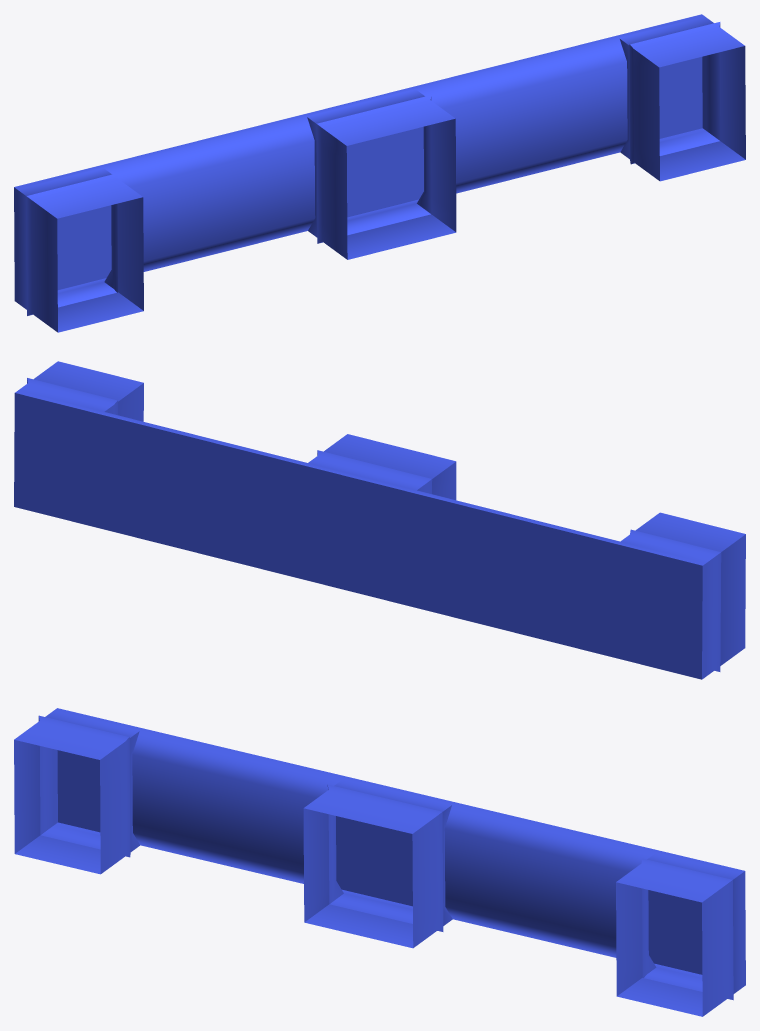
Rendered from pallet3.dae.
The picture shows the model from 3 angles, top to bottom: view 1: azimuth 30°, elevation 25°; view 2: azimuth 150°, elevation 25°; view 3: azimuth 330°, elevation 25°; orthographic projection.
Visible parts, largest first — view 1: Object_9.004; view 2: Object_9.004; view 3: Object_9.004.
Boxes of the visible parts, x1,y1,x2,y2 form: Object_9.004: (14,14,745,332); Object_9.004: (14,361,745,679); Object_9.004: (14,708,745,1016).
Size of the model in its own units: 1.1 by 0.1182 by 0.1889.
